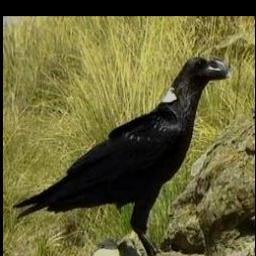Crow: (11, 53, 232, 256)
